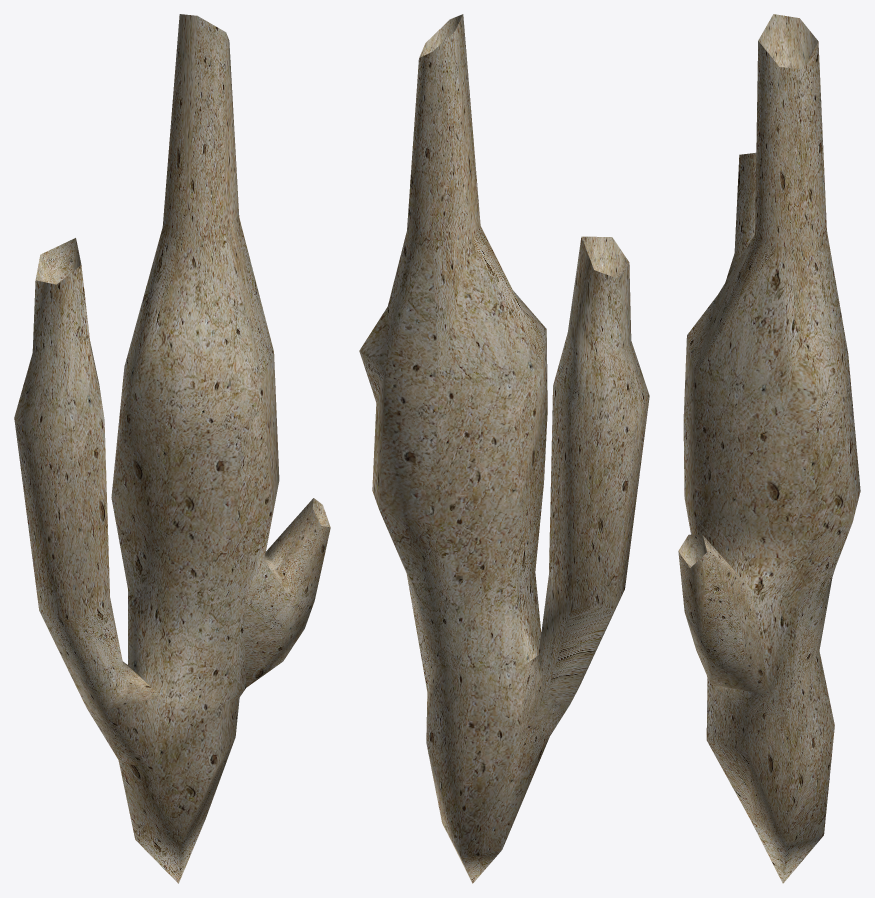
File: poi_all_lair_insecthill_small_l2.fbx
3 renders of one model, left to right at view 1: azimuth 30°, elevation 25°; view 2: azimuth 150°, elevation 25°; view 3: azimuth 270°, elevation 25°, orthographic.
Parts seen in each view (by area): view 1: mesh_node; view 2: mesh_node; view 3: mesh_node.
Boxes of the visible parts, x1,y1,x2,y2 form: mesh_node: (14,14,330,883); mesh_node: (359,14,649,883); mesh_node: (678,14,860,883).
Size of the model in its own units: 1.23 by 3.76 by 0.7078.
Materials: 1 (1 with a texture image).
